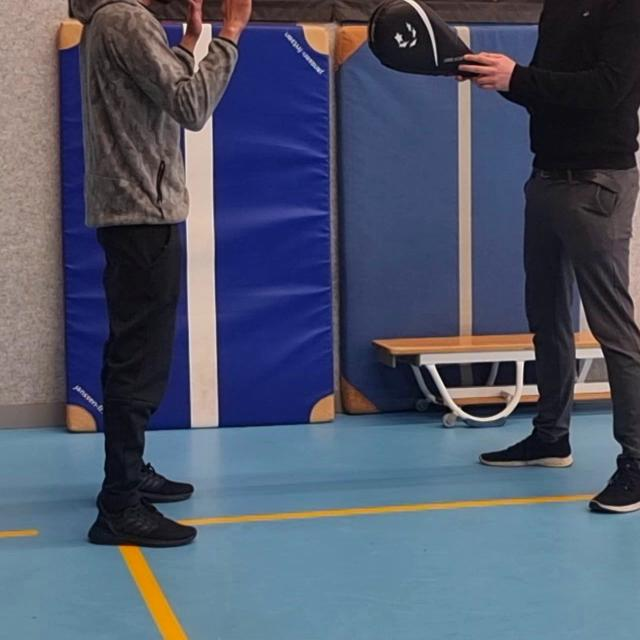paddle: (361, 0, 484, 81)
